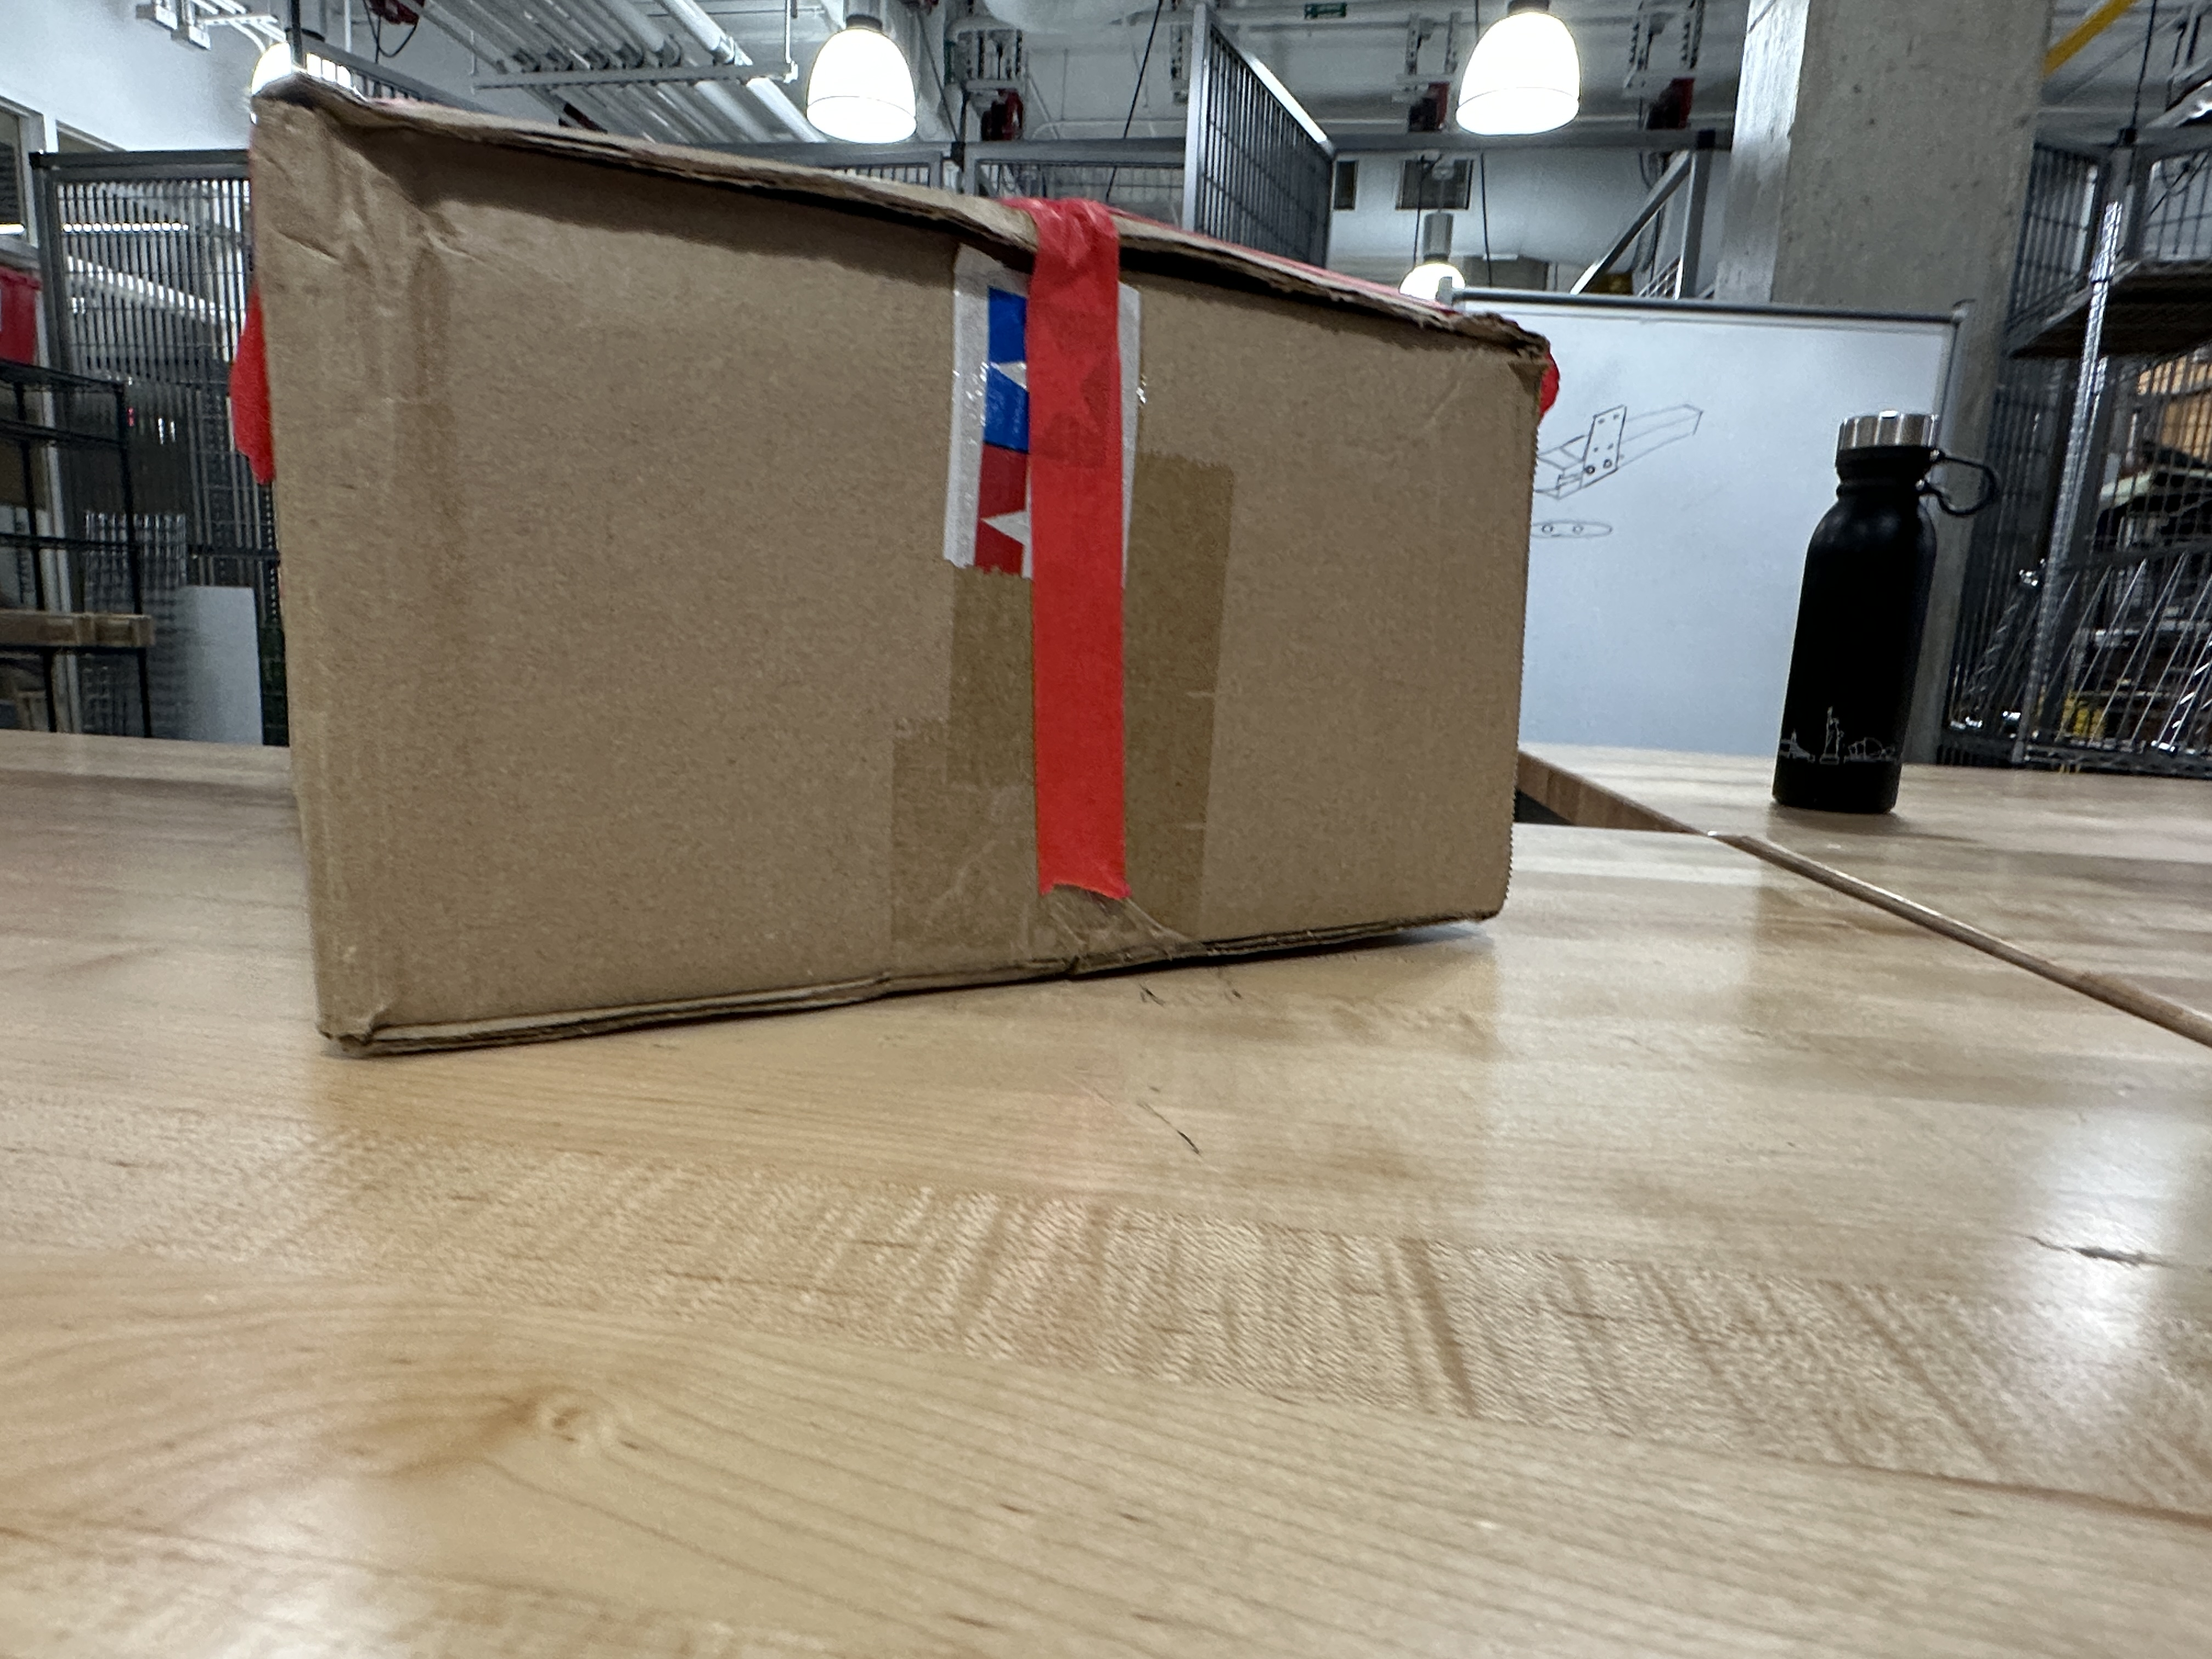Box_Obstacle: (233, 68, 1575, 1091)
